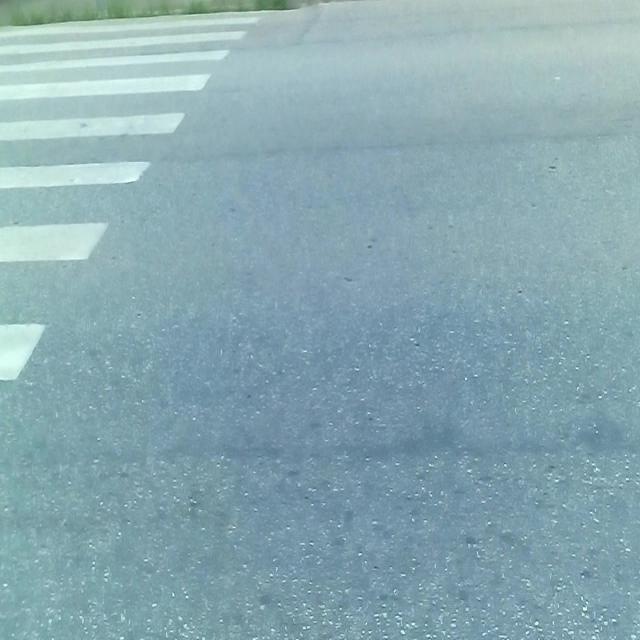crosswalk: (0, 12, 263, 417)
